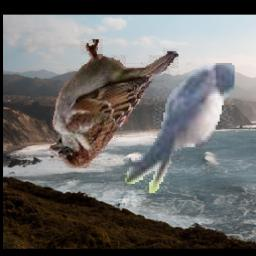Sparrow: (49, 40, 178, 169)
Swallow: (126, 64, 236, 195)
